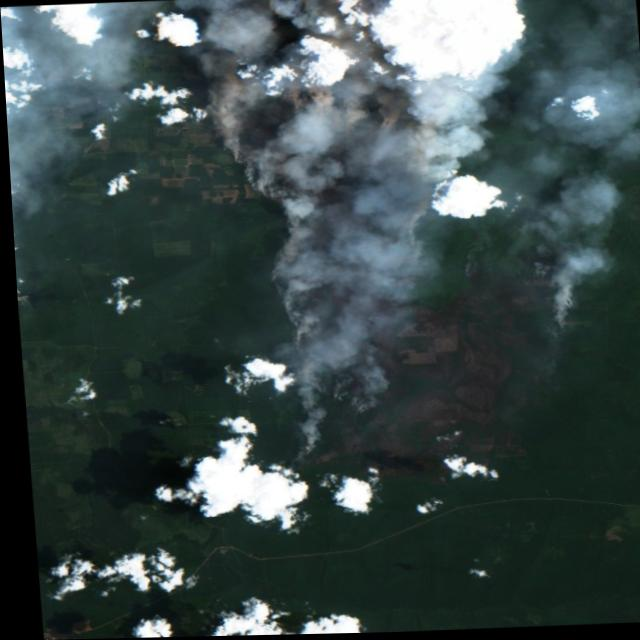fire: (196, 81, 480, 464), (467, 255, 578, 334)
